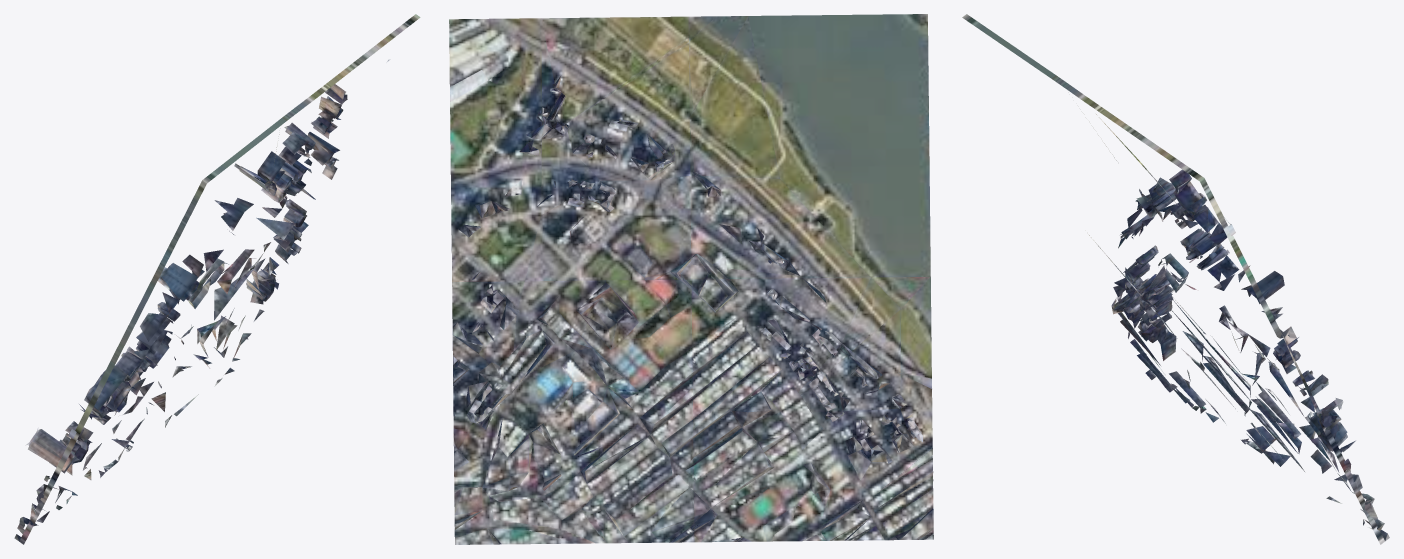
3 renders of one model, left to right at view 1: azimuth 30°, elevation 25°; view 2: azimuth 150°, elevation 25°; view 3: azimuth 270°, elevation 25°, orthographic. The views are drawn at different scales.
Bounding box in the file's own units: 1229 × 1109 × 1042.
Materials: 2 (2 with a texture image).
